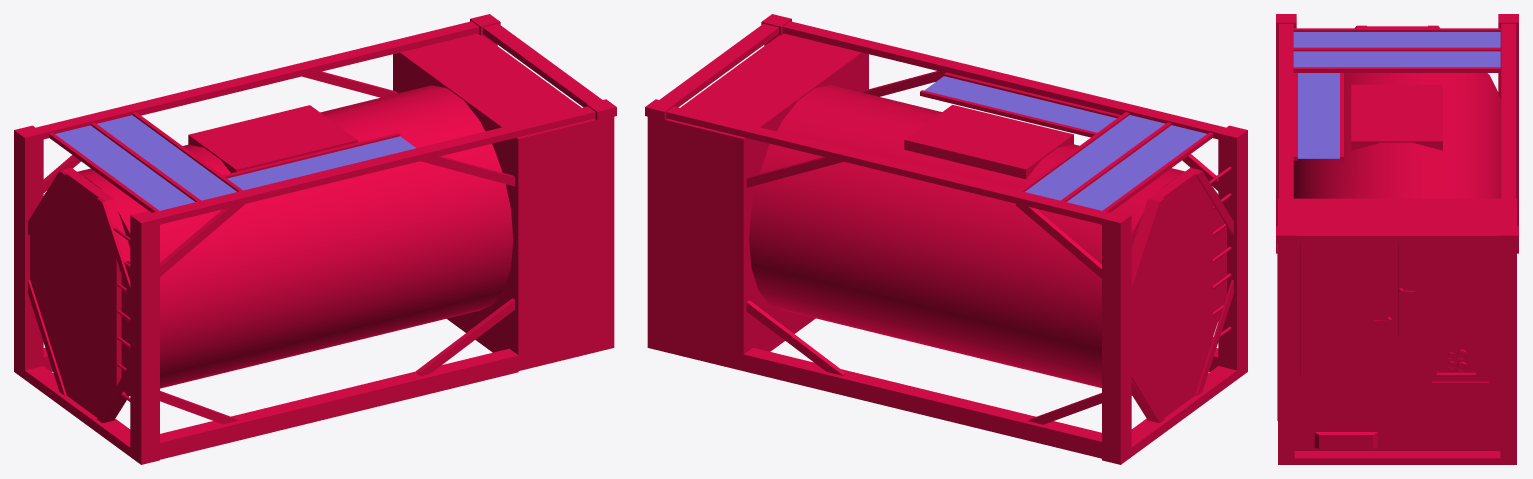
File: TURRET.fbx
3 renders of one model, left to right at view 1: azimuth 30°, elevation 25°; view 2: azimuth 150°, elevation 25°; view 3: azimuth 270°, elevation 25°, orthographic. The views are drawn at different scales.
Visible parts, largest first — view 1: Cube.001; view 2: Cube.001; view 3: Cube.001.
Part boxes in pixels (left/top/right/bottom): Cube.001: left=14, top=14, right=616, bottom=464; Cube.001: left=645, top=14, right=1247, bottom=464; Cube.001: left=1276, top=14, right=1518, bottom=464.
Size of the model in its own units: 4.83 by 2.35 by 2.24.
